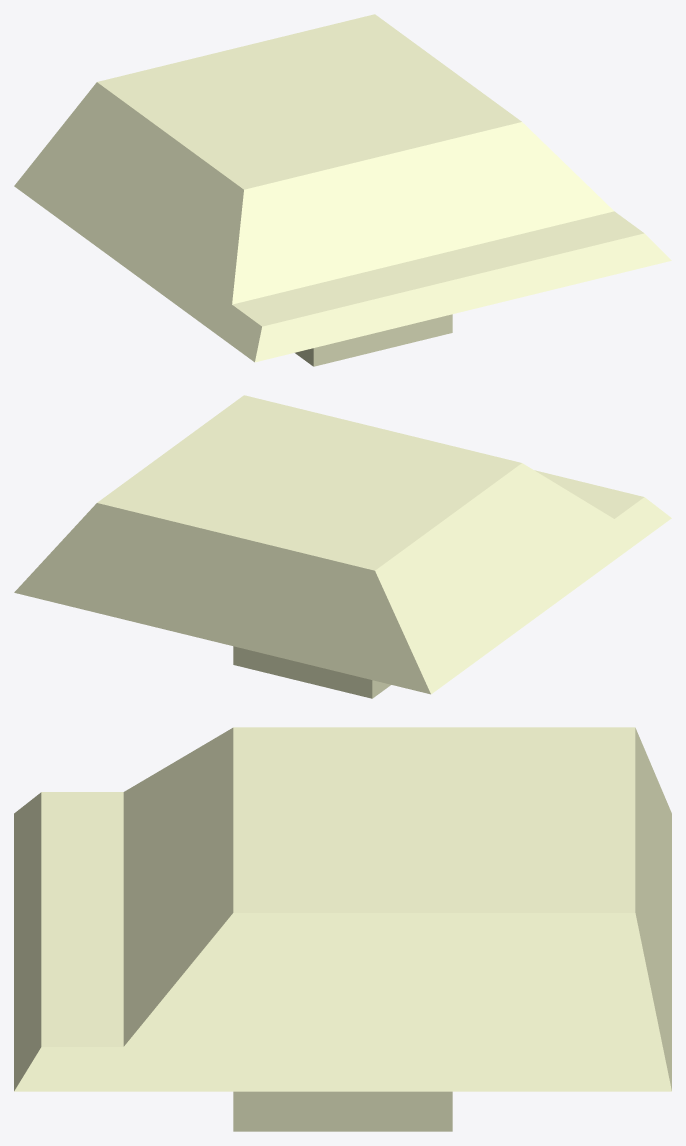
Rendered from original-81.obj.
3 views of the same model, one above another, from view 1: azimuth 30°, elevation 25°; view 2: azimuth 150°, elevation 25°; view 3: azimuth 270°, elevation 25° (orthographic). The views are drawn at different scales.
Parts seen in each view (by area): view 1: KB_-_Key_1_14_1_1/KB_-_Key_1_14_1/mesh36/mesh36-geometry#mesh36-; view 2: KB_-_Key_1_14_1_1/KB_-_Key_1_14_1/mesh36/mesh36-geometry#mesh36-; view 3: KB_-_Key_1_14_1_1/KB_-_Key_1_14_1/mesh36/mesh36-geometry#mesh36-.
Part boxes in pixels (x1,y1,x2,y2): KB_-_Key_1_14_1_1/KB_-_Key_1_14_1/mesh36/mesh36-geometry#mesh36-: (14, 14, 671, 366); KB_-_Key_1_14_1_1/KB_-_Key_1_14_1/mesh36/mesh36-geometry#mesh36-: (14, 395, 671, 698); KB_-_Key_1_14_1_1/KB_-_Key_1_14_1/mesh36/mesh36-geometry#mesh36-: (14, 727, 671, 1131).
Bounding box in the file's own units: 0.0727 × 0.0323 × 0.0727.
